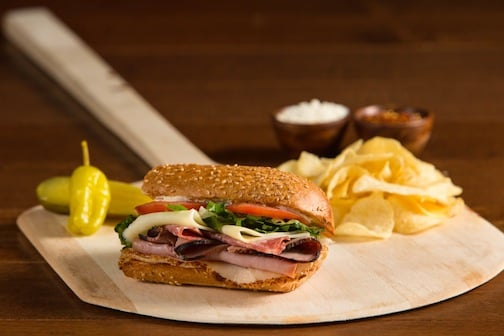soup: (115, 162, 336, 292)
sushi: (271, 98, 351, 156), (352, 103, 435, 156)
